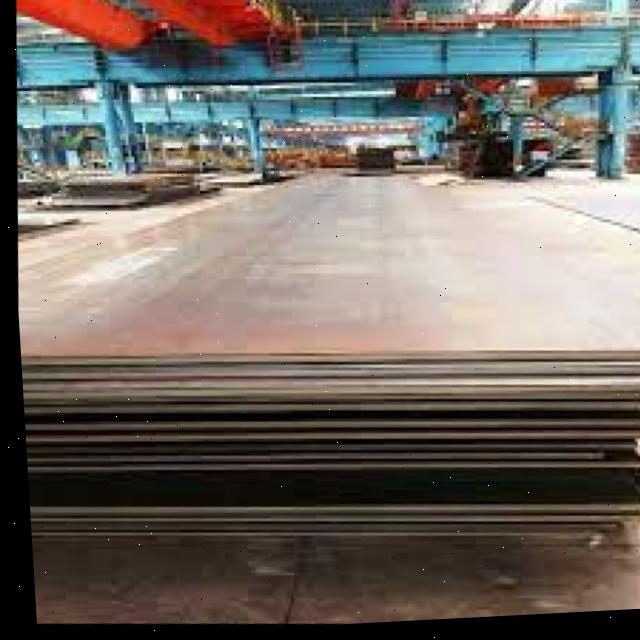Dry: (15, 181, 640, 510)
